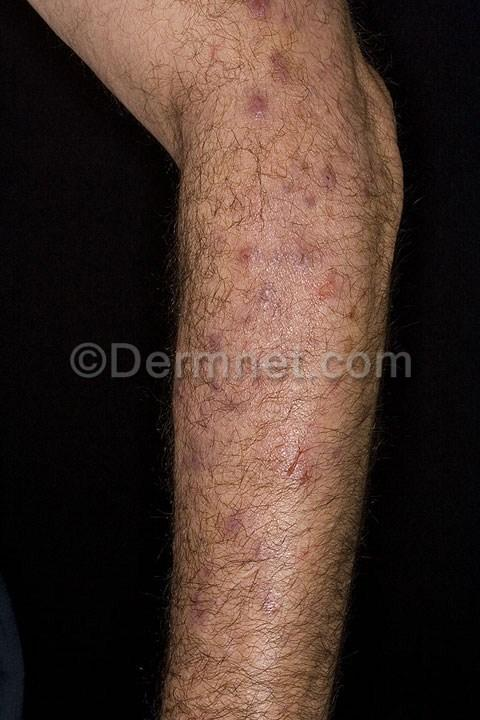Eczema: (185, 163, 384, 346), (173, 543, 313, 719), (177, 0, 330, 159), (202, 373, 343, 534)
